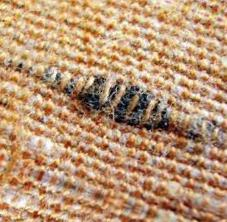slub: (4, 55, 223, 149)
